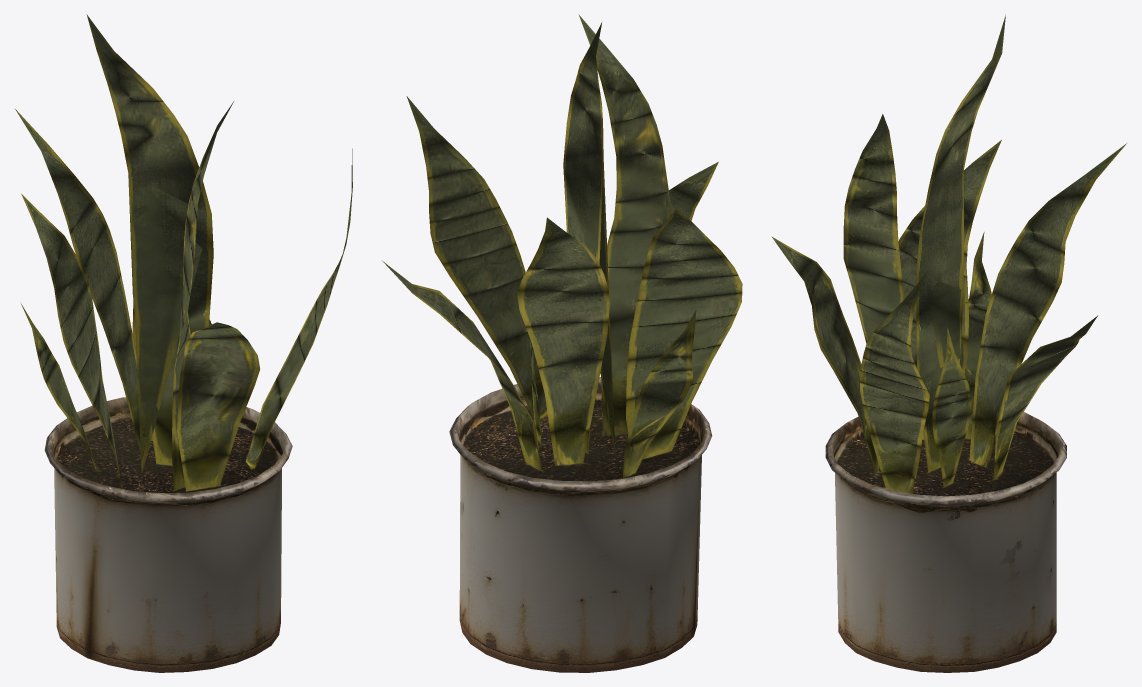
3 views of the same model, side by side, from view 1: azimuth 30°, elevation 25°; view 2: azimuth 150°, elevation 25°; view 3: azimuth 270°, elevation 25° (orthographic). The views are drawn at different scales.
Visible parts, largest first — view 1: tripo_node_da79f4e3-8a8f-429d-b5ea-807c1ec782f1; view 2: tripo_node_da79f4e3-8a8f-429d-b5ea-807c1ec782f1; view 3: tripo_node_da79f4e3-8a8f-429d-b5ea-807c1ec782f1.
Boxes of the visible parts, x1,y1,x2,y2 form: tripo_node_da79f4e3-8a8f-429d-b5ea-807c1ec782f1: [15, 14, 352, 672]; tripo_node_da79f4e3-8a8f-429d-b5ea-807c1ec782f1: [382, 14, 742, 672]; tripo_node_da79f4e3-8a8f-429d-b5ea-807c1ec782f1: [771, 14, 1126, 672].
Size of the model in its own units: 0.5254 by 0.998 by 0.5488.
Materials: 1 (1 with a texture image).
